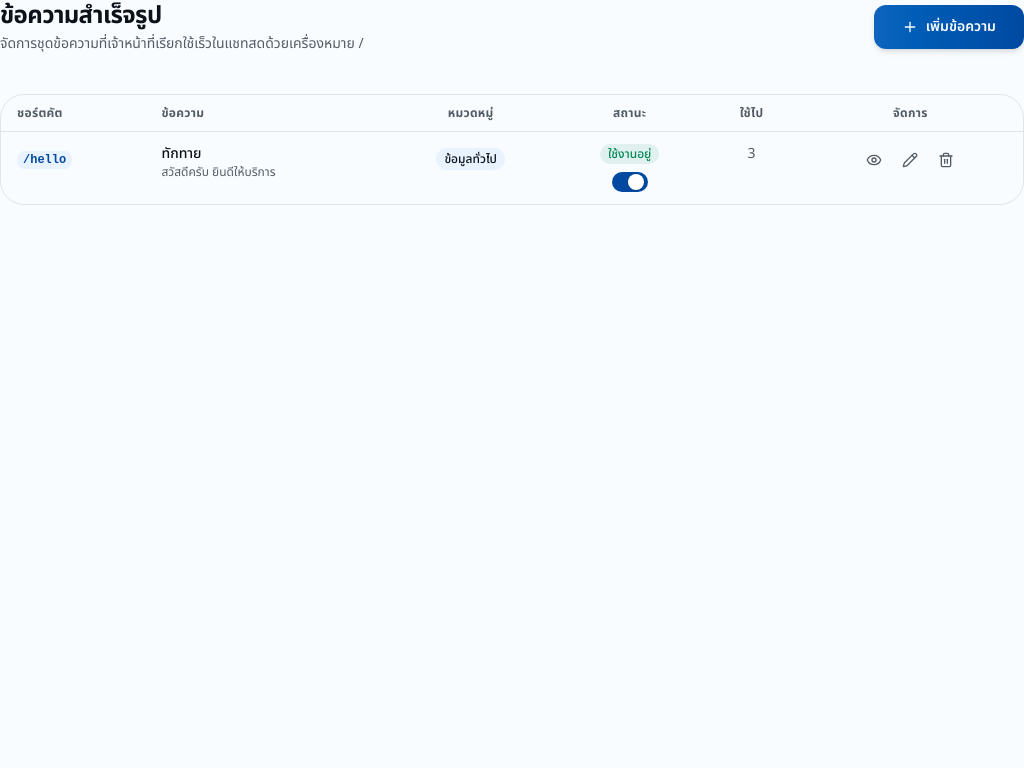
it: CannedResponsesClient ตาราง JSK › ดูรายละเอียดเปิด DetailModal แสดงข้อความเต็ม
Expected: the text "ทักทาย" is shown, [162,143,202,164]
Step 1. Click the button named "ดูรายละเอียด ทักทาย" → (874, 160), box [858,144,890,176]
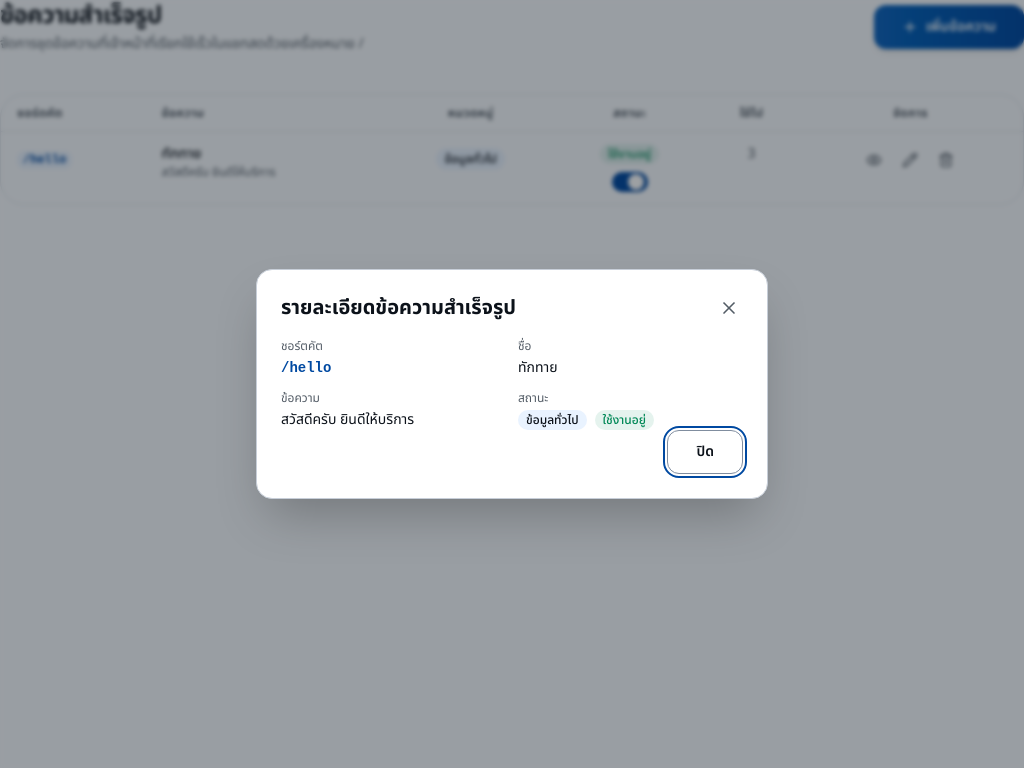
Expected: the heading "รายละเอียดข้อความสำเร็จรูป" is shown, [281,293,516,323]
